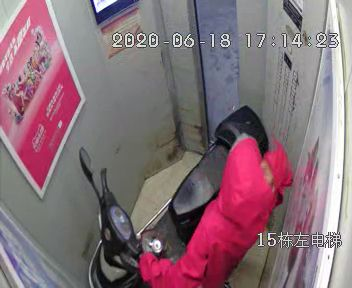Electric-bicycle: (80, 103, 265, 285)
